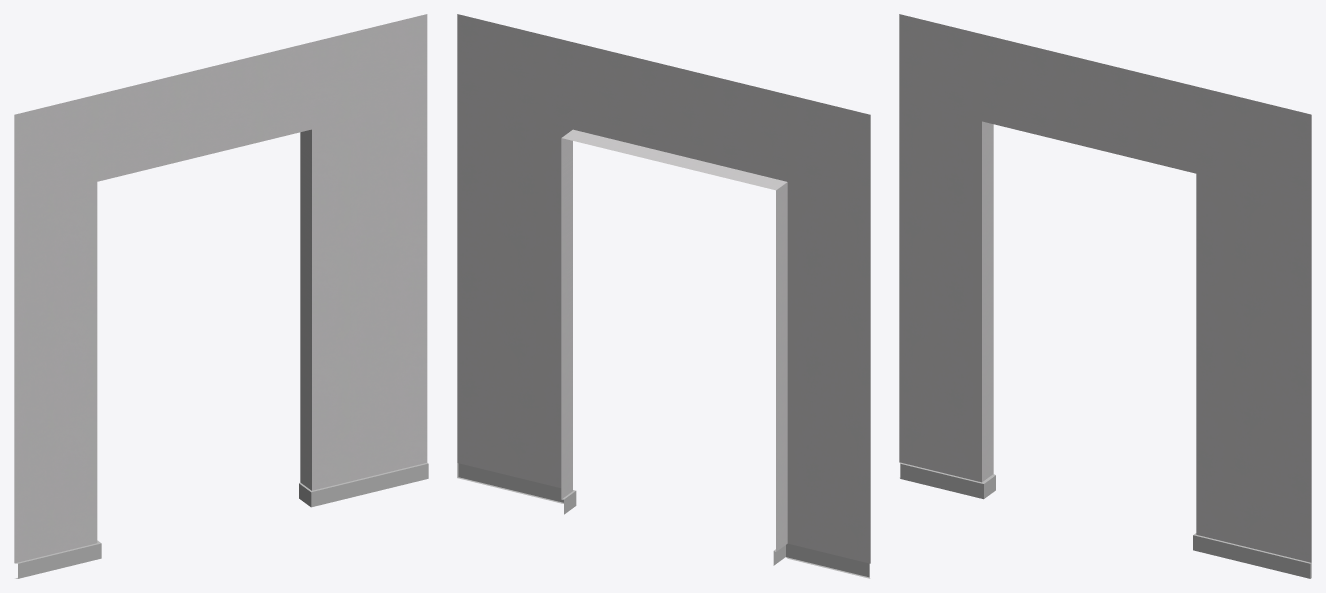
The model's file is SM_Wall_Stair3_3.fbx.
The picture shows the model from 3 angles, left to right: view 1: azimuth 30°, elevation 25°; view 2: azimuth 150°, elevation 25°; view 3: azimuth 330°, elevation 25°; orthographic projection.
Visible parts, largest first — view 1: SM_Wall_Stair3_3; view 2: SM_Wall_Stair3_3; view 3: SM_Wall_Stair3_3.
Boxes of the visible parts, left/top/right/bottom form: SM_Wall_Stair3_3: left=14, top=14, right=428, bottom=578; SM_Wall_Stair3_3: left=457, top=14, right=870, bottom=578; SM_Wall_Stair3_3: left=899, top=14, right=1311, bottom=578.
Bounding box in the file's own units: 368 × 19.79 × 395.
